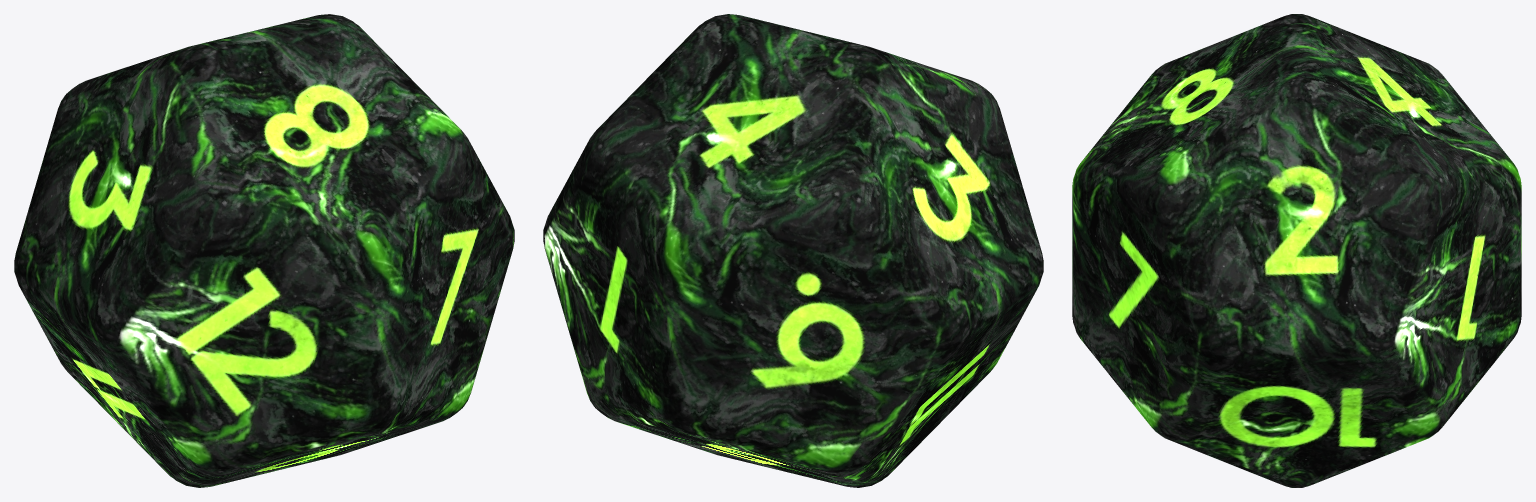
3 views of the same model, side by side, from view 1: azimuth 30°, elevation 25°; view 2: azimuth 150°, elevation 25°; view 3: azimuth 270°, elevation 25° (orthographic). The views are drawn at different scales.
Visible parts, largest first — view 1: dice_12; view 2: dice_12; view 3: dice_12.
Boxes of the visible parts, left/top/right/bottom form: dice_12: left=14, top=14, right=514, bottom=487; dice_12: left=543, top=14, right=1043, bottom=487; dice_12: left=1072, top=14, right=1521, bottom=487.
Bounding box in the file's own units: 163 × 163 × 163.
Materials: 1 (1 with a texture image).
